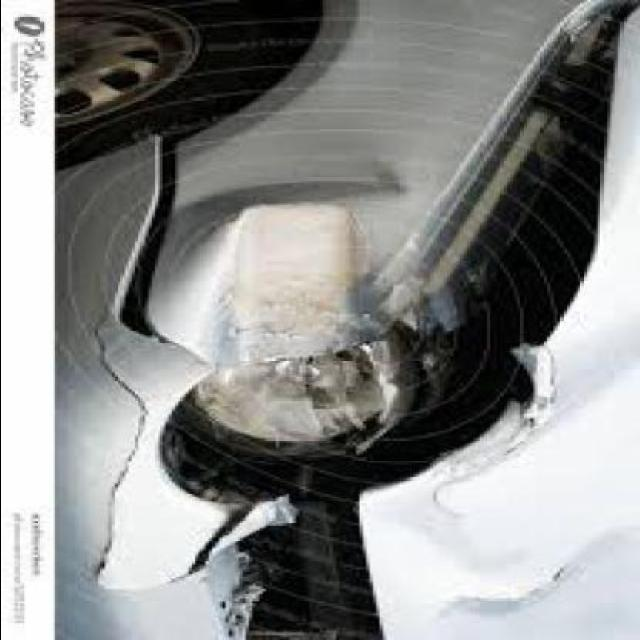Headlight-Damage: (144, 272, 442, 530)
fender-dent: (64, 2, 537, 280)
front-bumper-dent: (44, 128, 245, 639)
